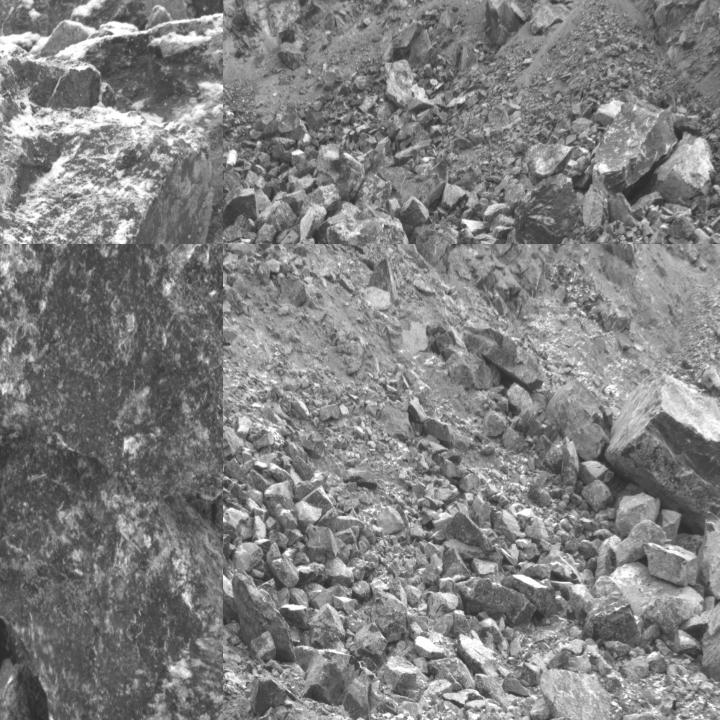stone: (0, 438, 222, 719), (0, 244, 222, 493), (0, 8, 214, 243), (603, 373, 719, 531), (592, 101, 678, 195), (498, 174, 585, 243), (296, 644, 376, 719), (232, 570, 294, 662), (463, 321, 545, 389), (550, 378, 607, 466), (654, 132, 714, 201), (538, 667, 612, 719), (458, 576, 536, 625), (380, 158, 446, 207), (314, 142, 364, 202), (327, 207, 410, 243), (584, 592, 636, 643), (615, 520, 668, 567), (645, 542, 700, 587), (501, 574, 555, 617), (616, 486, 662, 536), (700, 575, 719, 683), (697, 510, 719, 601), (370, 588, 407, 642), (443, 512, 492, 552), (446, 353, 500, 389), (365, 258, 401, 311), (524, 143, 574, 179), (252, 677, 297, 715), (223, 186, 259, 233), (265, 480, 298, 528), (428, 658, 475, 690), (352, 622, 388, 660), (378, 403, 414, 441), (255, 198, 296, 231), (560, 436, 580, 501), (264, 552, 300, 587), (307, 604, 345, 637), (301, 629, 351, 654), (580, 479, 614, 514), (583, 188, 606, 238), (298, 202, 328, 239), (442, 544, 471, 582), (342, 458, 378, 488), (410, 222, 461, 243), (223, 505, 252, 541), (233, 542, 263, 576), (305, 526, 338, 556), (399, 198, 431, 228), (579, 460, 614, 487), (424, 417, 456, 446), (296, 499, 324, 532), (248, 632, 276, 665), (376, 505, 406, 535), (505, 384, 534, 415), (482, 412, 508, 438), (441, 184, 467, 209), (697, 366, 719, 391), (621, 712, 668, 719)
